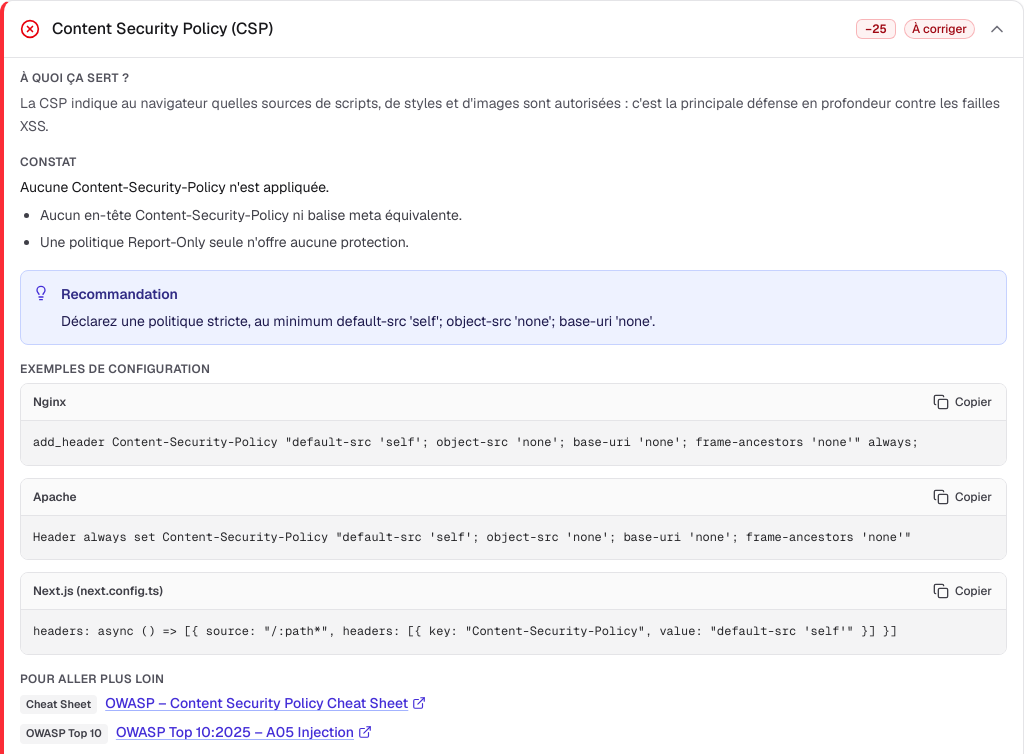
Test: CheckCard › signale l'échec de la copie au lieu d'échouer en silence
Click the button with aria-label "Copier l'exemple Apache".
click(962, 497)  # box [925,485,1000,509]
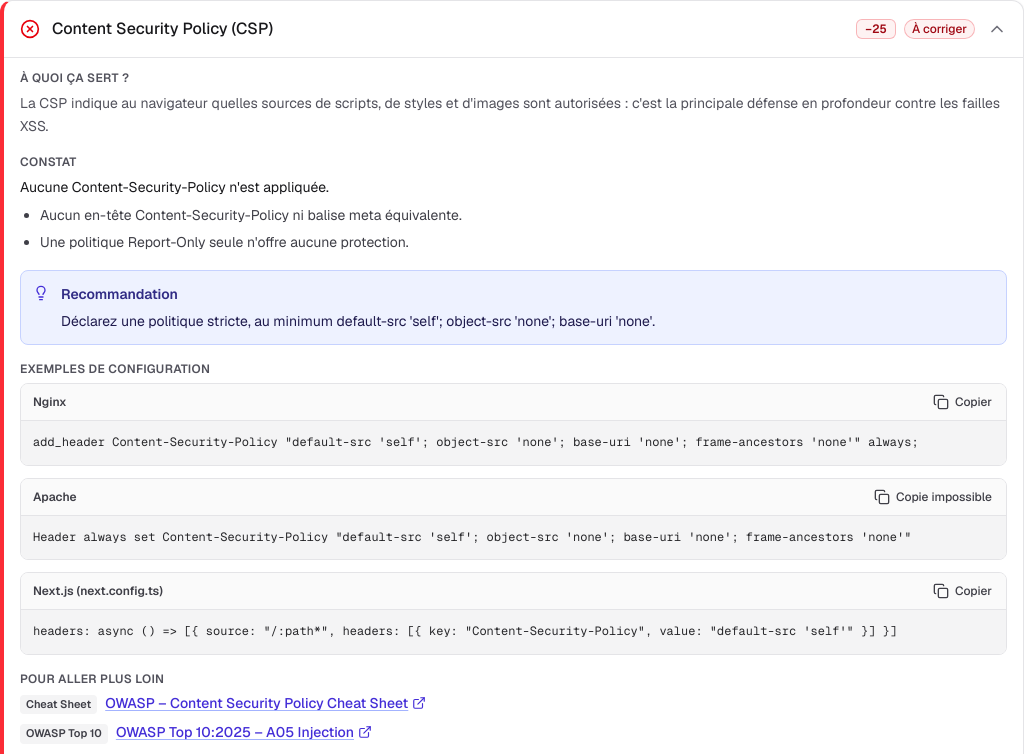
Check: the text "Copie impossible" is shown, box [896,489,992,505]
